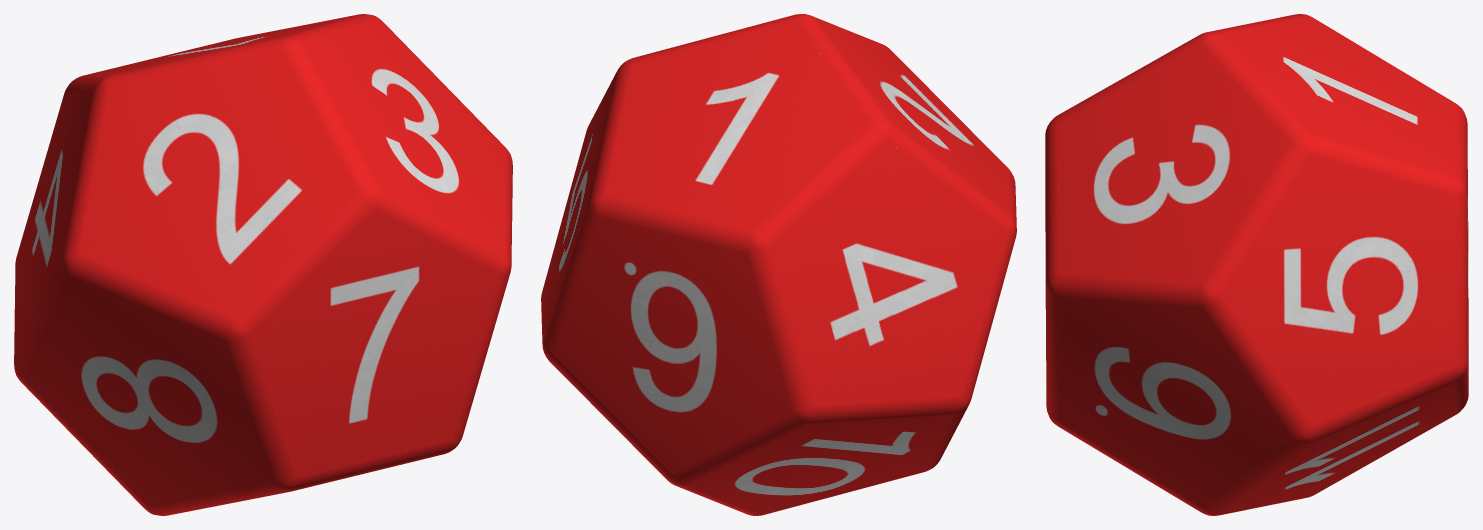
The picture shows the model from 3 angles, left to right: view 1: azimuth 30°, elevation 25°; view 2: azimuth 150°, elevation 25°; view 3: azimuth 270°, elevation 25°; orthographic projection. The views are drawn at different scales.
Parts seen in each view (by area): view 1: d12_red_plastic; view 2: d12_red_plastic; view 3: d12_red_plastic.
Boxes of the visible parts, <box> form: d12_red_plastic: <box>14,14,512,515</box>; d12_red_plastic: <box>541,14,1016,515</box>; d12_red_plastic: <box>1045,14,1468,515</box>.
Bounding box in the file's own units: 1.56 × 1.63 × 1.36.
Materials: 1 (1 with a texture image).
